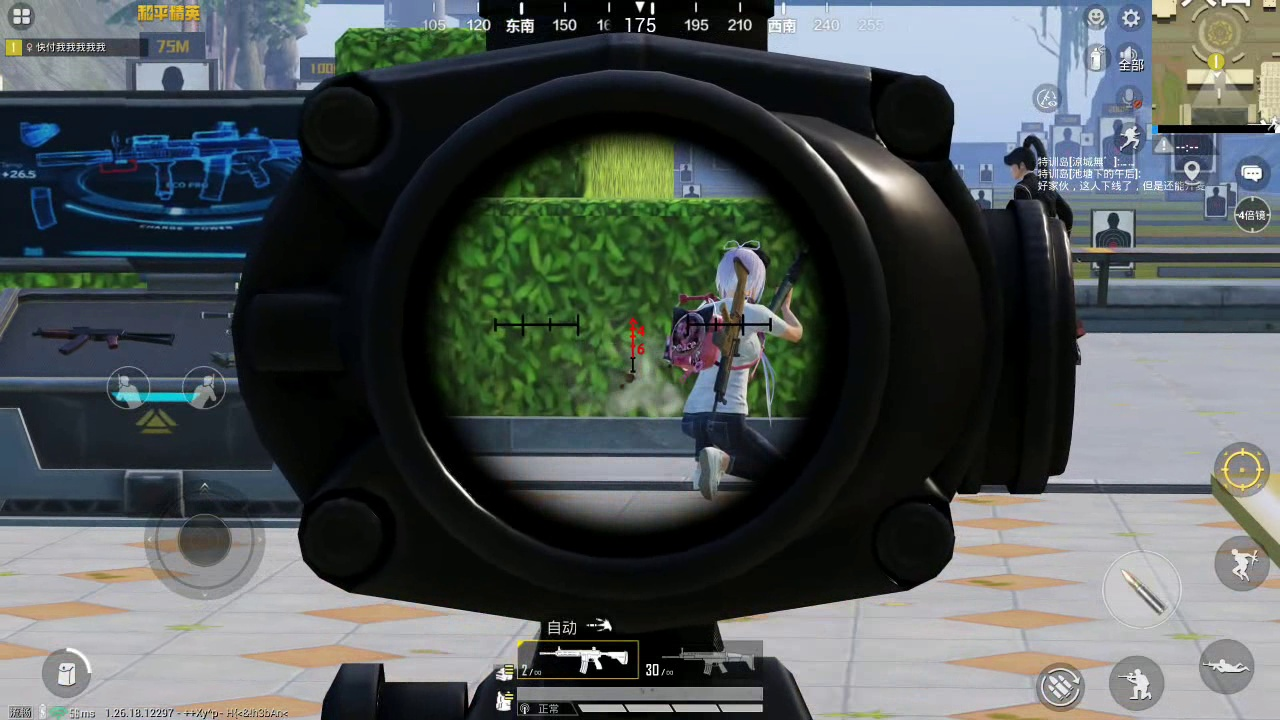enemy: (680, 244, 781, 486), (999, 138, 1086, 364)
